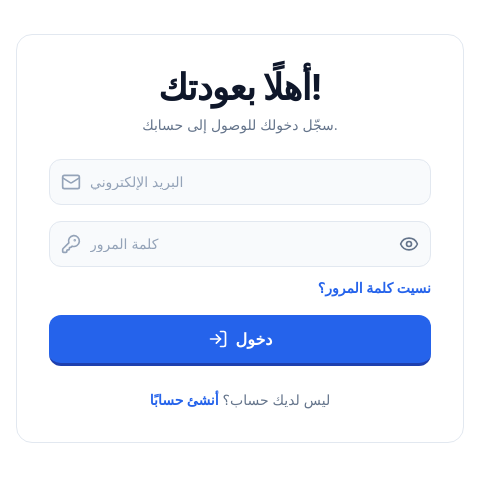
Scenario: LoginPage › reports an unverified account in the page language
Type "someone@mathly.local" into the field with id "email" at {"x": 240, "y": 182}, box x1=49 y1=159 x2=431 y2=205
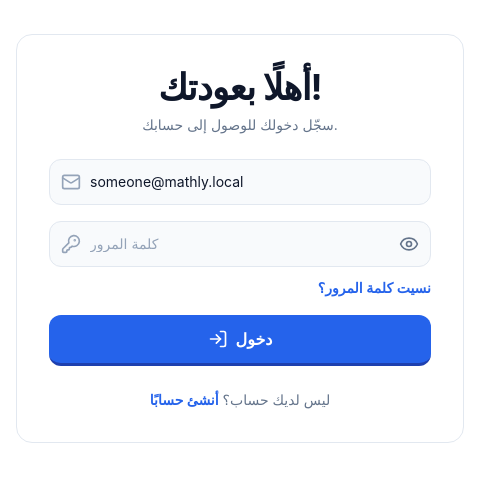
Type "hunter2222" into the password field with placeholder "كلمة المرور" at {"x": 240, "y": 244}, box x1=49 y1=221 x2=431 y2=267
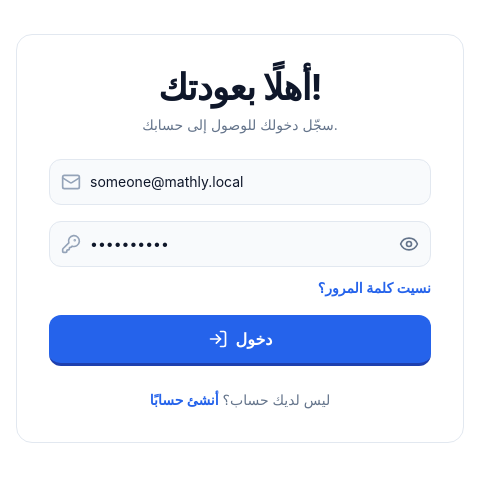
Submit the form, box x1=49 y1=159 x2=431 y2=366
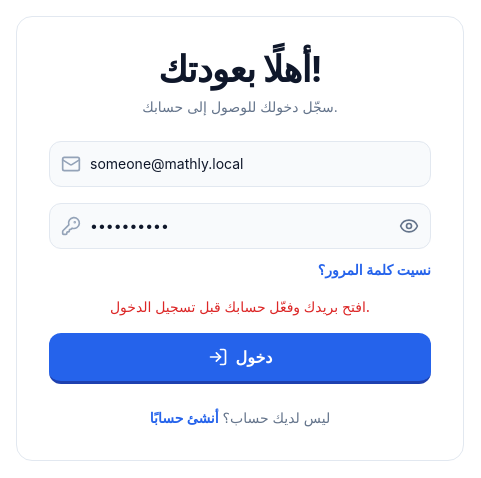
Result: the text "افتح بريدك وفعّل حسابك قبل تسجيل الدخول." is shown at x1=110 y1=298 x2=370 y2=315
